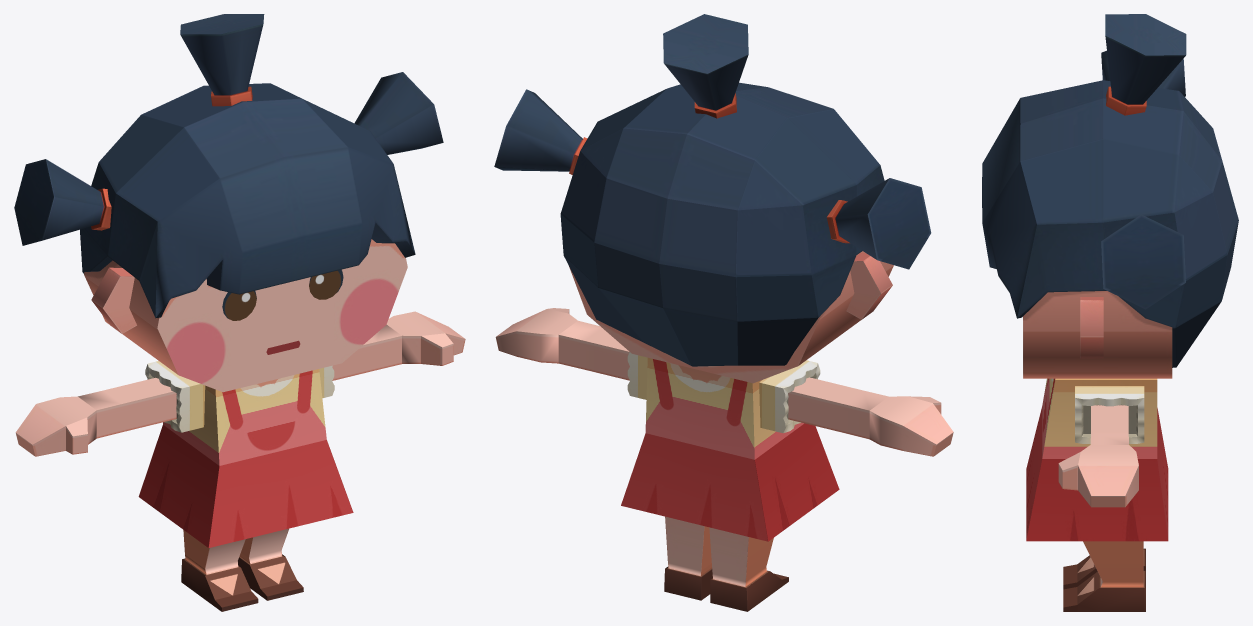
File: 宝宝学汉字-角色-NPC学生.FBX
3 views of the same model, side by side, from view 1: azimuth 30°, elevation 25°; view 2: azimuth 150°, elevation 25°; view 3: azimuth 270°, elevation 25° (orthographic).
Visible parts, largest first — view 1: 宝宝学汉字-角色-NPC学生; view 2: 宝宝学汉字-角色-NPC学生; view 3: 宝宝学汉字-角色-NPC学生.
Boxes of the visible parts, bbox=[...] form: 宝宝学汉字-角色-NPC学生: bbox=[14, 14, 465, 611]; 宝宝学汉字-角色-NPC学生: bbox=[494, 14, 953, 611]; 宝宝学汉字-角色-NPC学生: bbox=[982, 14, 1238, 611].
Bounding box in the file's own units: 87.67 × 108 × 44.3.
Materials: 1 (1 with a texture image).
